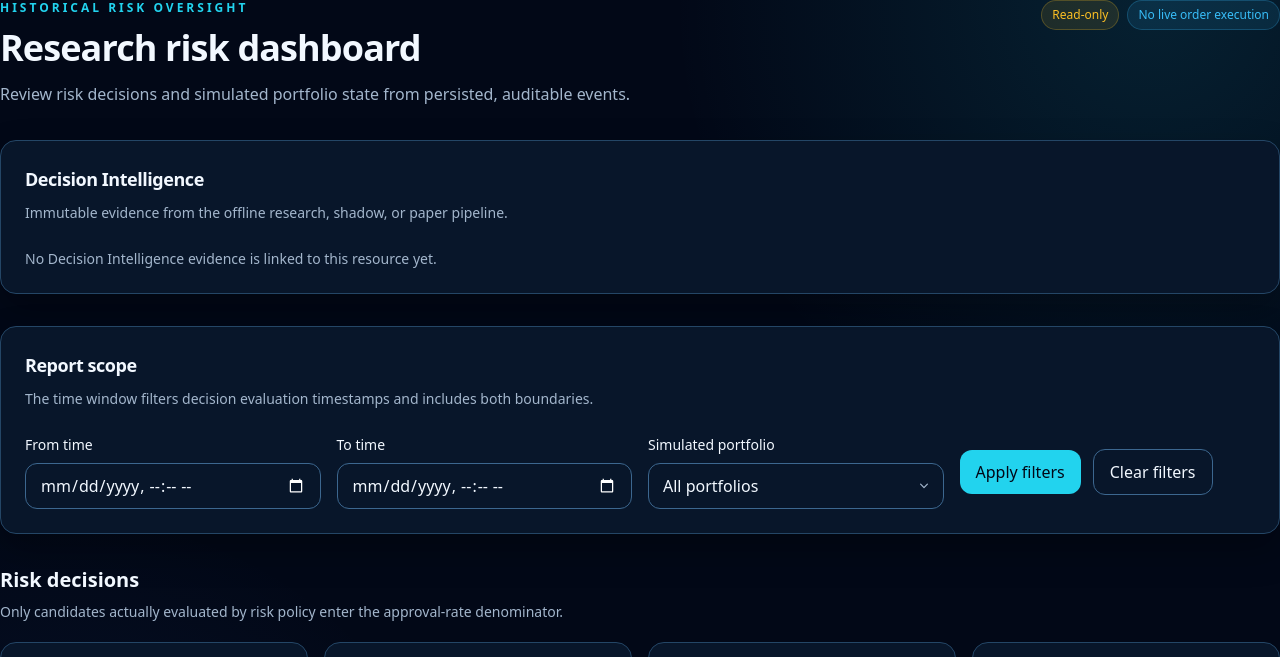
Test: RiskDashboard › sends timezone-aware inclusive filter boundaries
Type "2026-08-26T12:00" into the field labelled "From time" at point(173, 486), box [25, 463, 320, 509]
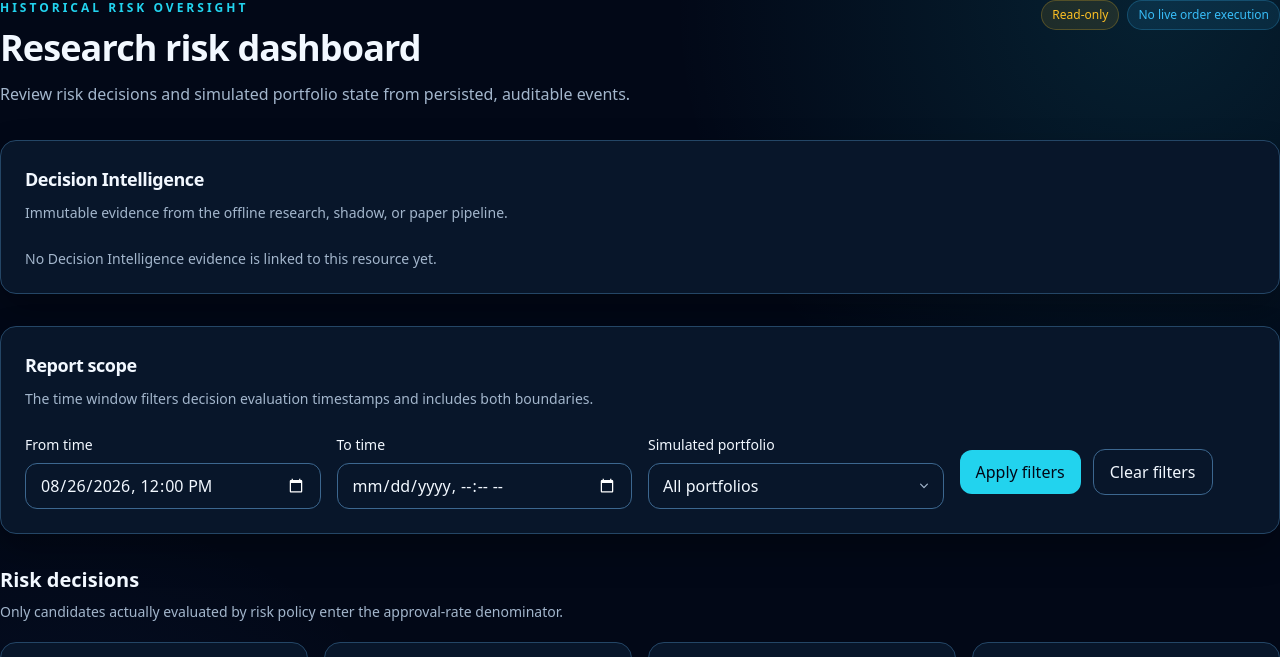
Type "2026-08-26T14:00" into the field labelled "To time" at point(484, 486), box [336, 463, 632, 509]
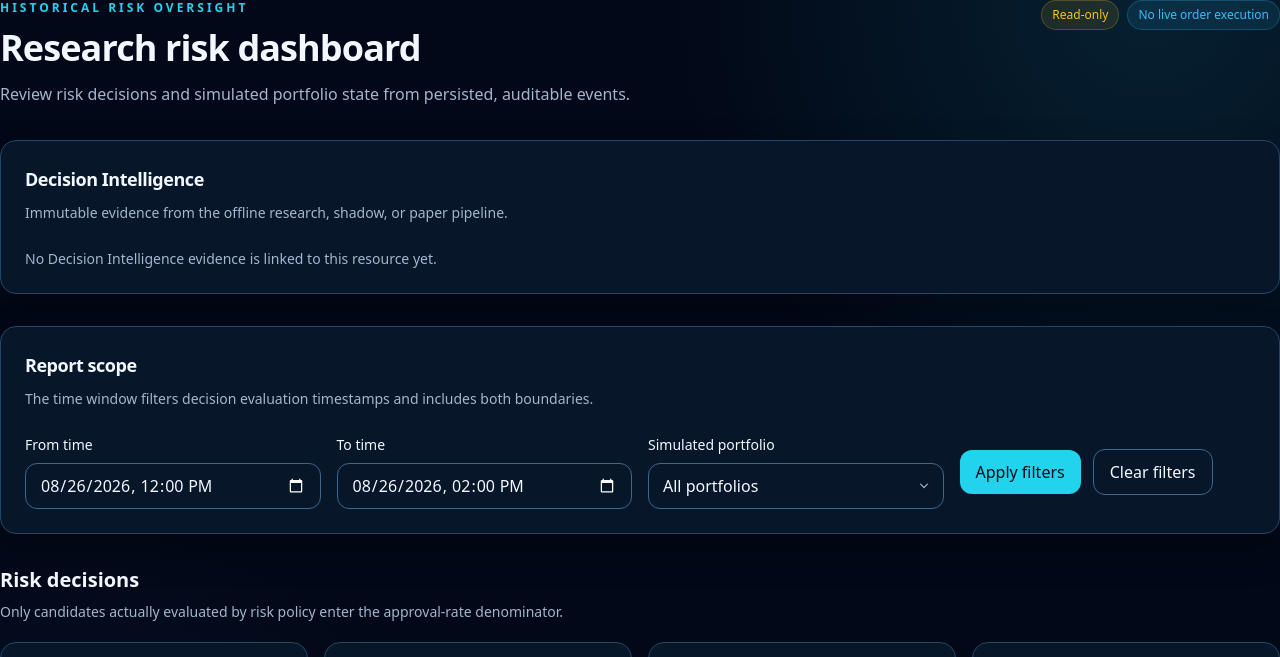
Click the button "Apply filters" at point(1020, 472), box [960, 450, 1081, 494]
(page scrolled)
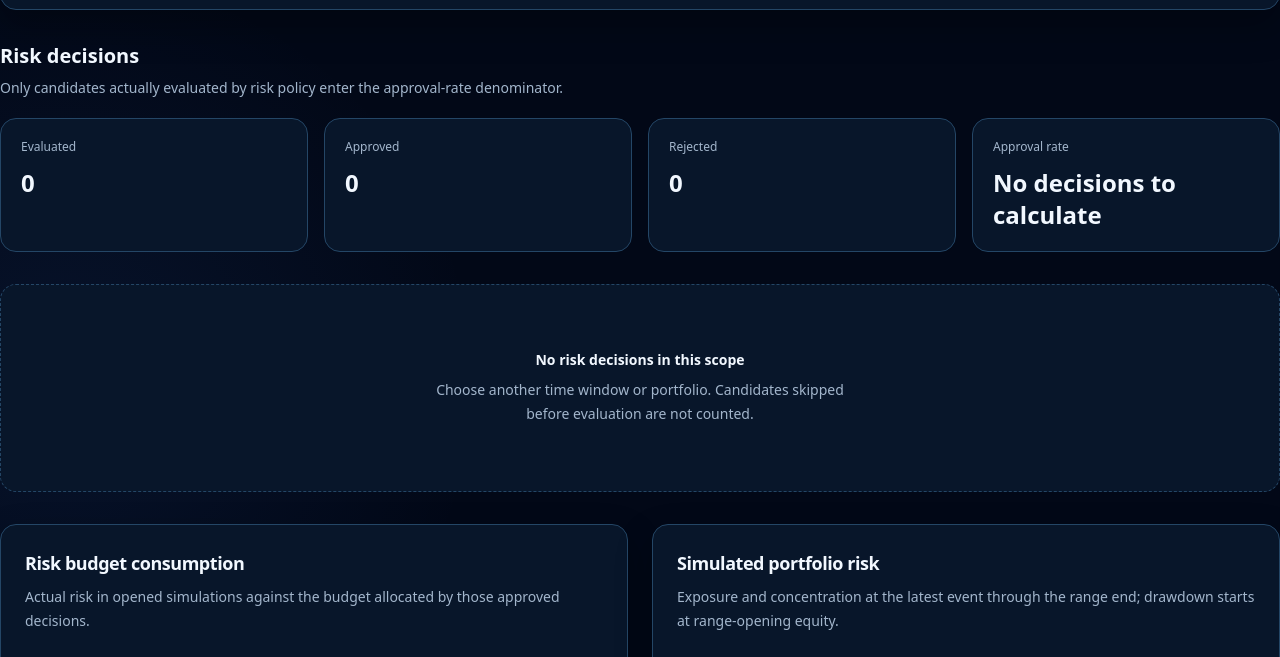
Now the heading "No risk decisions in this scope" is shown, box [536, 350, 745, 370]
